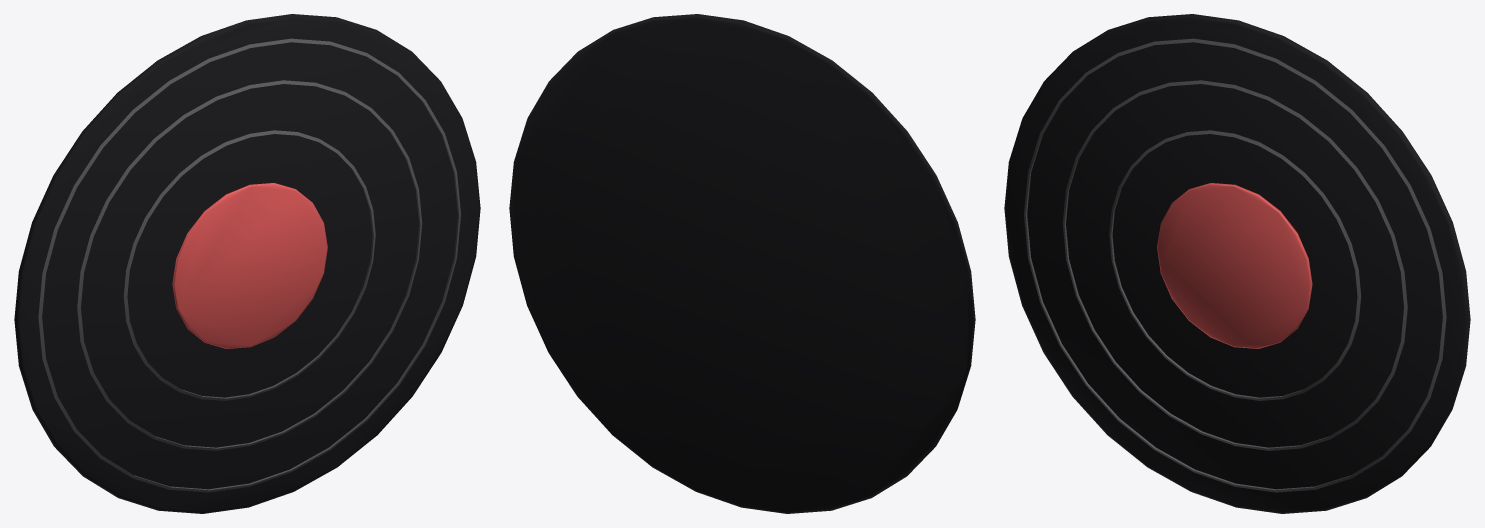
File: record_1.glb
The picture shows the model from 3 angles, left to right: view 1: azimuth 30°, elevation 25°; view 2: azimuth 150°, elevation 25°; view 3: azimuth 330°, elevation 25°; orthographic projection.
Visible parts, largest first — view 1: Record, Record label, Groove shine; view 2: Record; view 3: Record, Record label, Groove shine.
Boxes of the visible parts, bbox=[...] form: Record: bbox=[14, 14, 480, 513]; Record label: bbox=[172, 183, 327, 348]; Groove shine: bbox=[38, 38, 460, 492]; Record: bbox=[509, 14, 975, 513]; Record: bbox=[1004, 14, 1470, 513]; Record label: bbox=[1157, 183, 1312, 348]; Groove shine: bbox=[1024, 38, 1446, 492].
Size of the model in its own units: 0.3 by 0.3 by 0.006.
